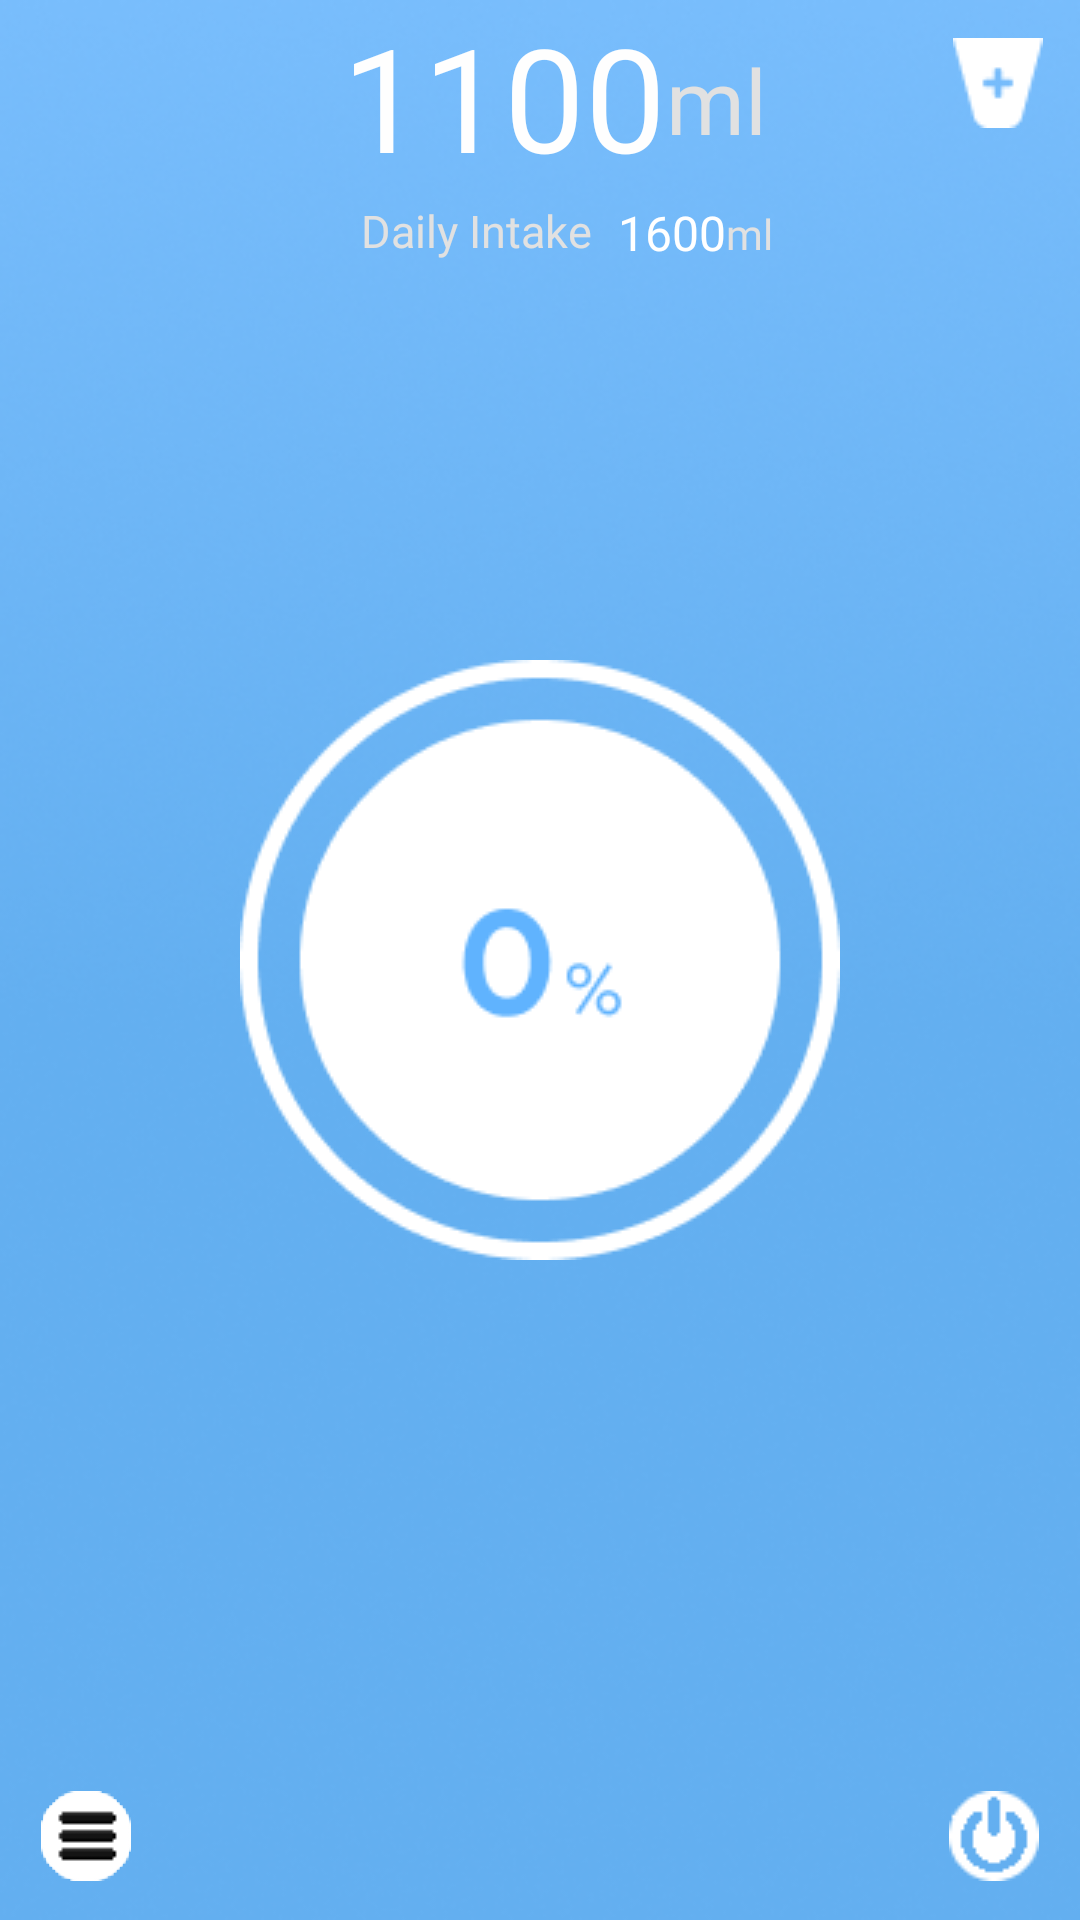

Icons on this 1080px×1920px Android screen, each with the point to tap as (x,y):
add: (998,83)
off: (994,1836)
